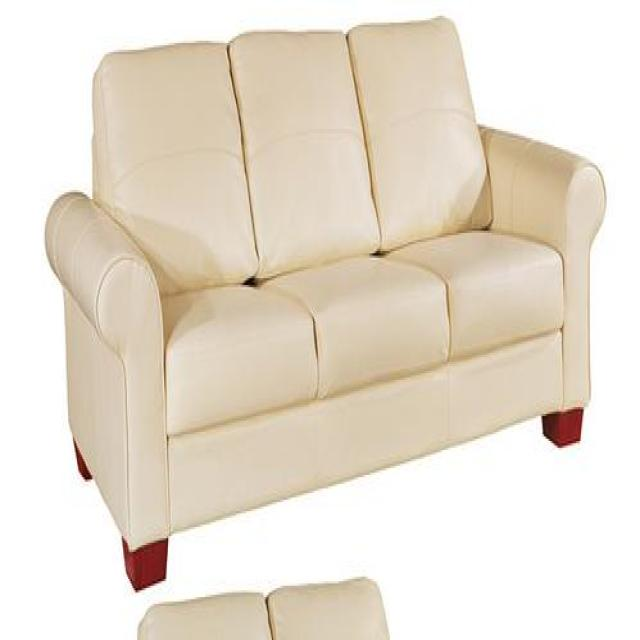sofa: (41, 8, 607, 600)
